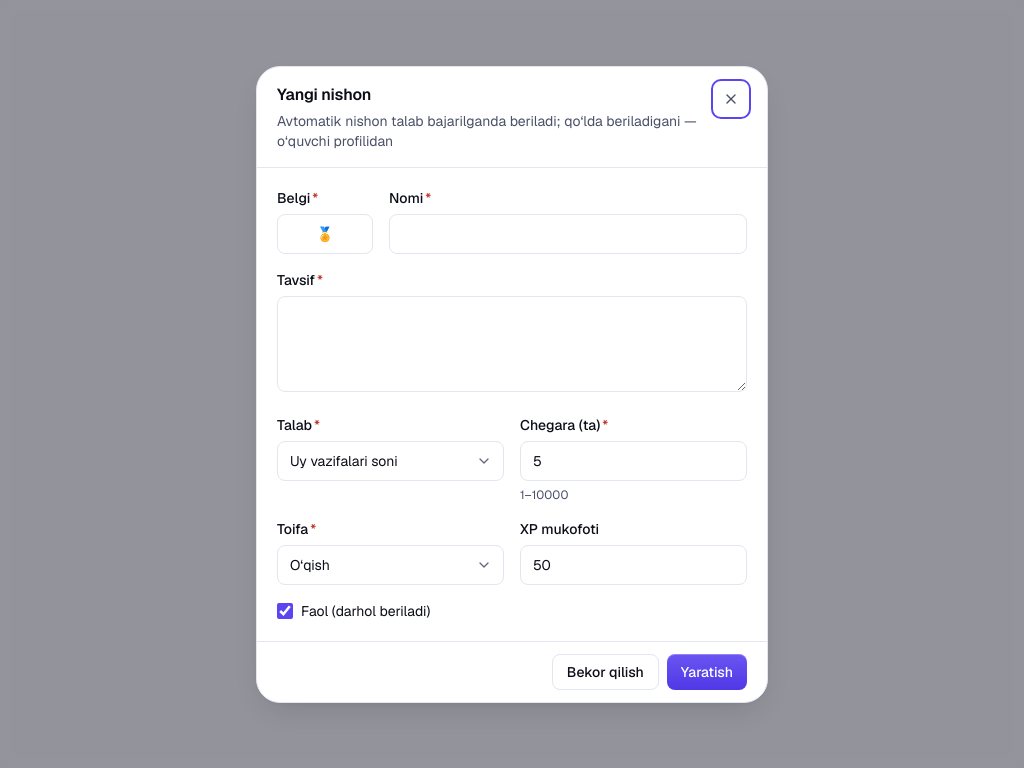
BadgeFormModal (GAP-02) › talab turi chegarani boshqaradi: qo‘lda — chegara yo‘q, davomat — 1–100, toifa avtomatik
Check: the field labelled "Chegara (ta)*" is shown, box [520, 440, 747, 480]
Select "Qo‘lda beriladi" in the dropdown labelled "Talab*" at (390, 460), box [277, 440, 504, 480]
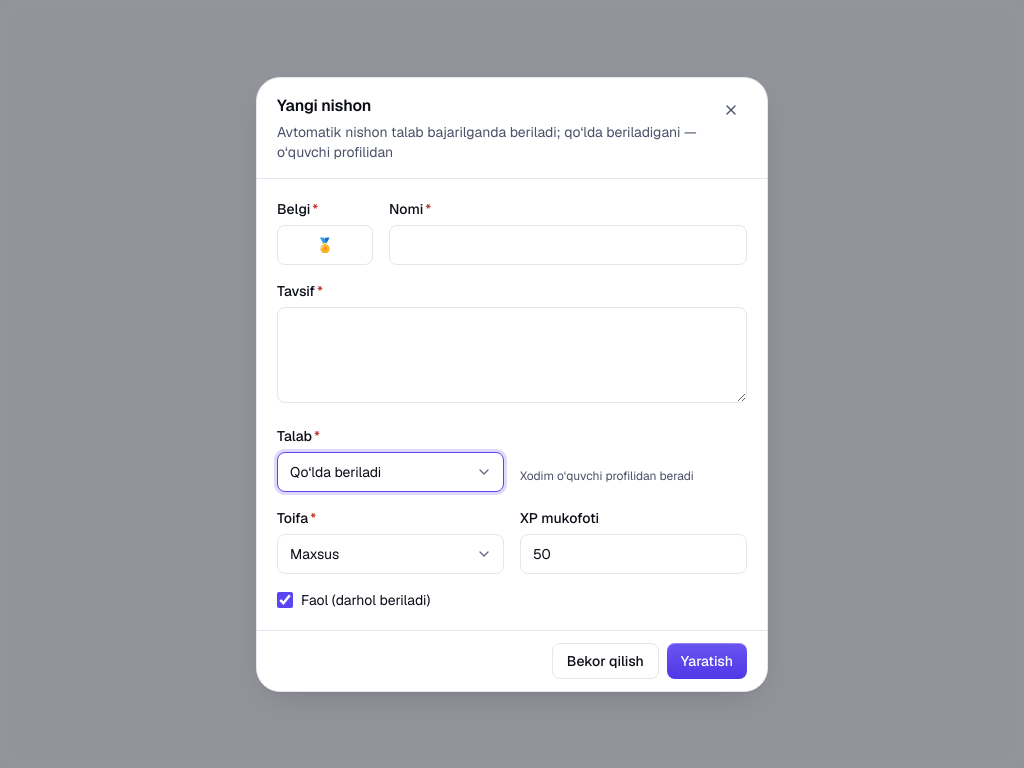
Check: the label labelled "Chegara" is gone
Check: the dropdown labelled "Toifa*" shows "Maxsus", box [277, 534, 504, 574]
Select "Do‘st taklif qilish" in the dropdown labelled "Talab*" at (390, 472), box [277, 452, 504, 492]
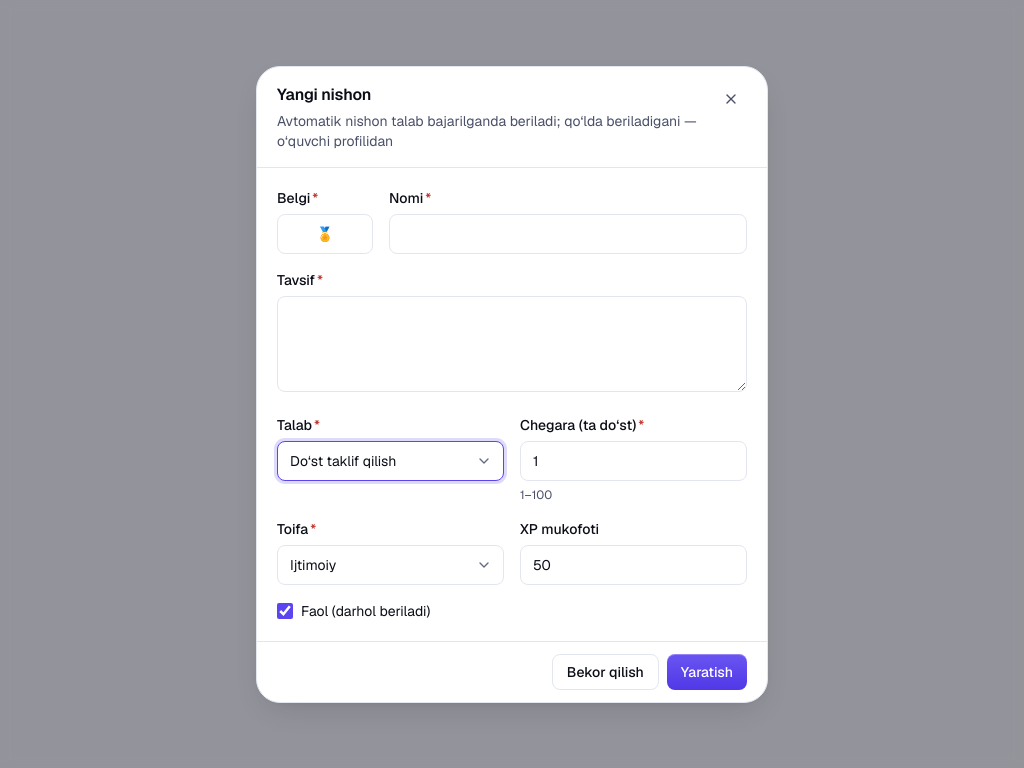
Check: the dropdown labelled "Toifa*" shows "Ijtimoiy", box [277, 544, 504, 584]
Check: the field labelled "Chegara (ta do‘st)*" holds "1", box [520, 440, 747, 480]
